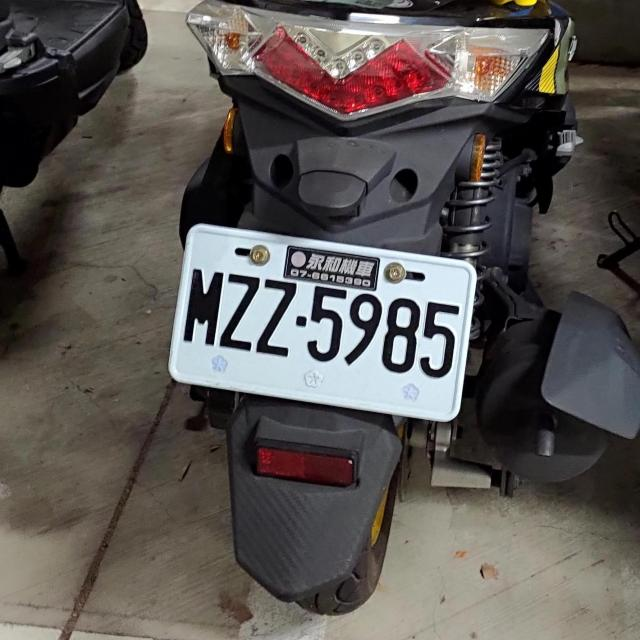W: (166, 221, 482, 416)
